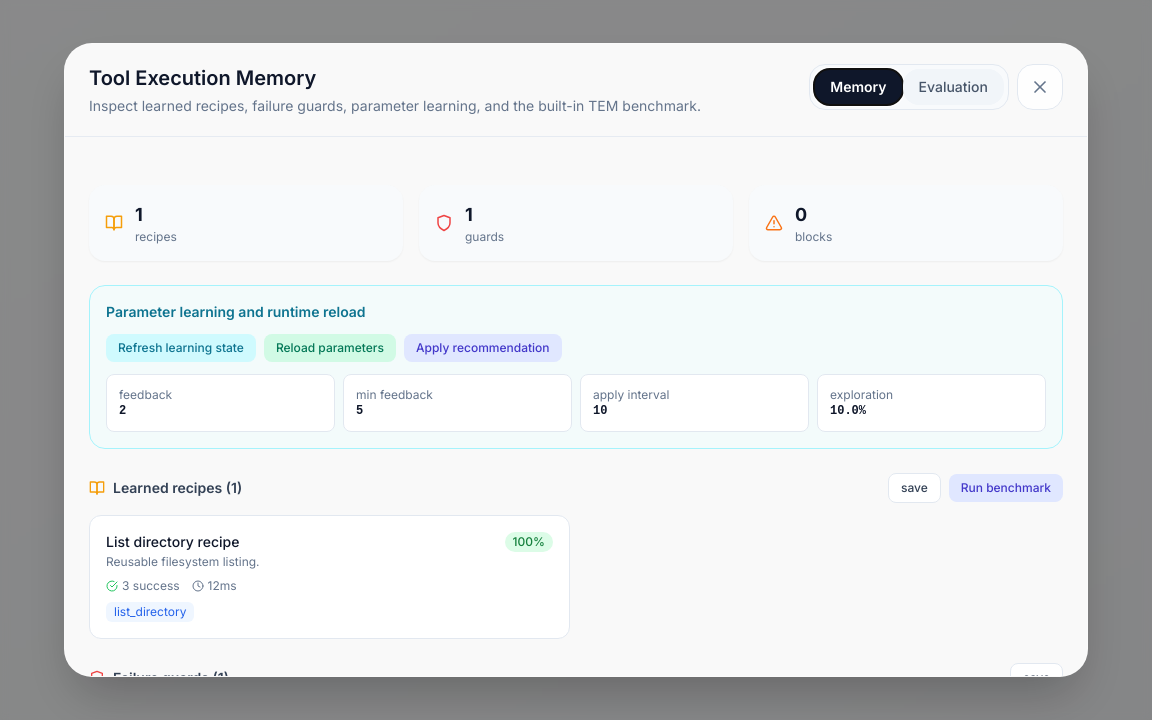
Test: TEMPanel › runs the built-in TEM benchmark from the memory tab
Click the button "Run benchmark". click: {"x": 1006, "y": 488}
box: [949, 474, 1063, 502]
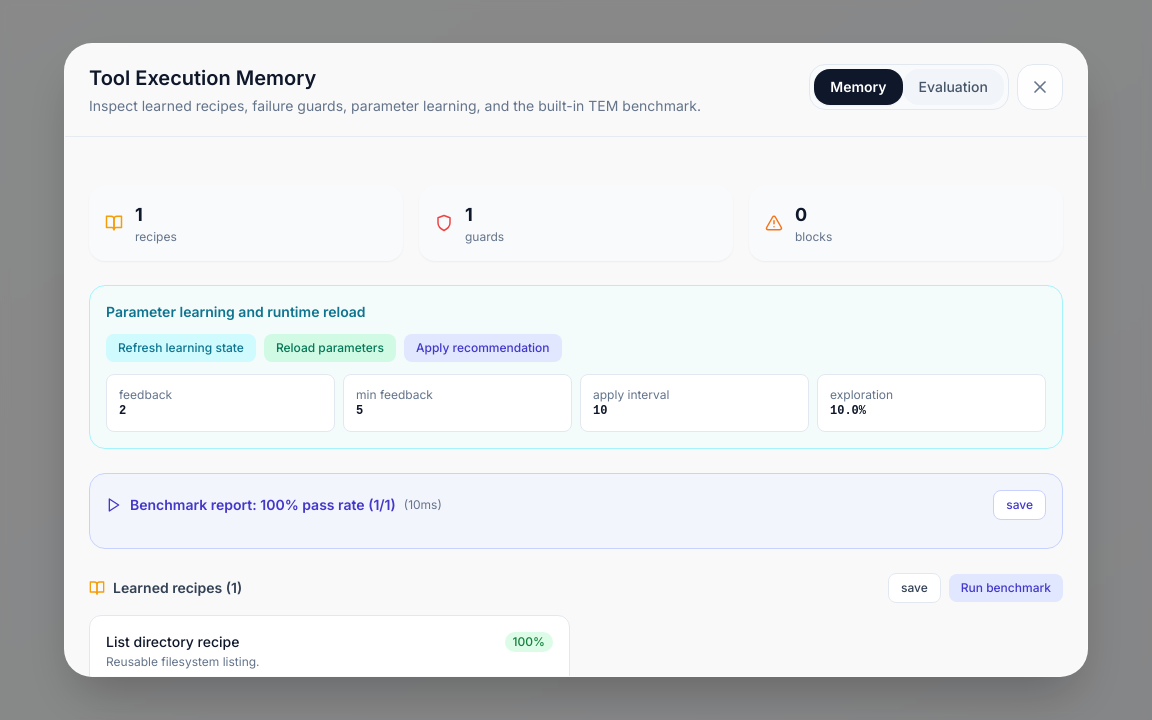
Expected: the text "Benchmark report: 100% pass rate (1/1)" is shown, [130, 495, 396, 515]
